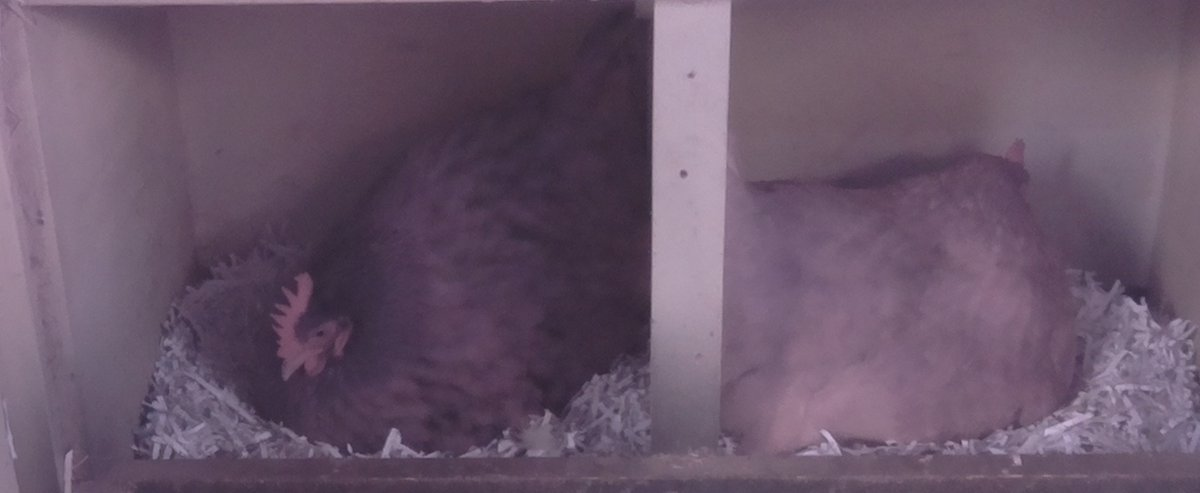hen: (245, 5, 651, 456), (727, 137, 1086, 443)
